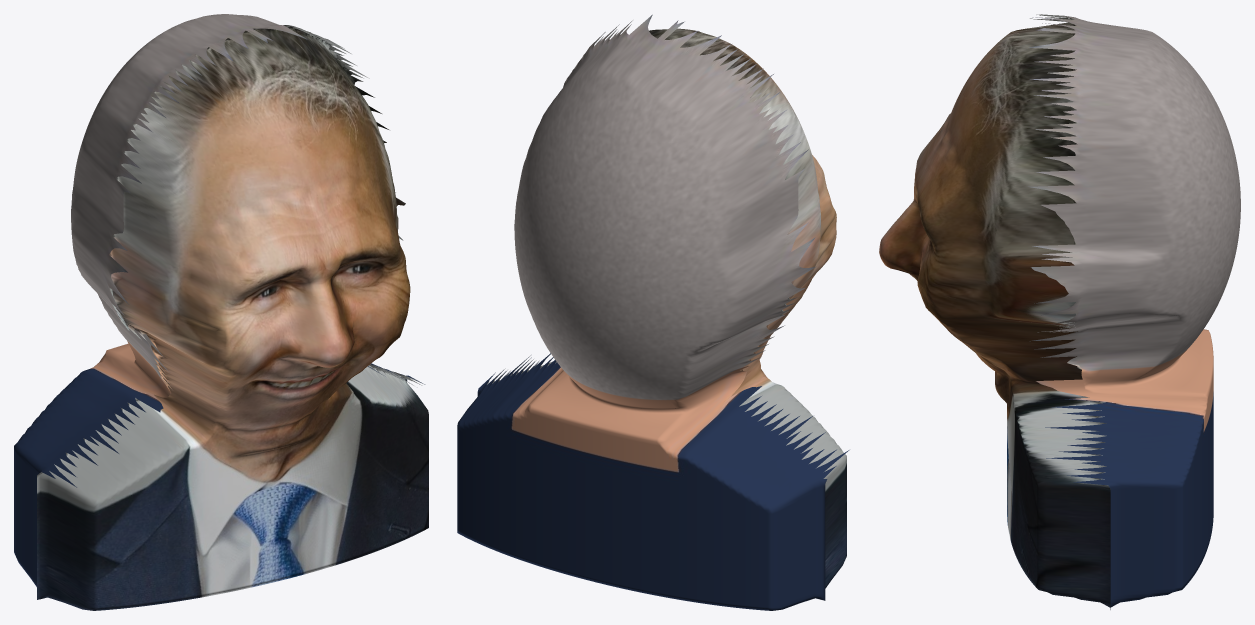
3 views of the same model, side by side, from view 1: azimuth 30°, elevation 25°; view 2: azimuth 150°, elevation 25°; view 3: azimuth 270°, elevation 25° (orthographic). The views are drawn at different scales.
Parts seen in each view (by area): view 1: MalcolmTurnbullHead; view 2: MalcolmTurnbullHead; view 3: MalcolmTurnbullHead.
Part boxes in pixels (bbox=[...]): MalcolmTurnbullHead: bbox=[14, 14, 428, 610]; MalcolmTurnbullHead: bbox=[457, 14, 849, 610]; MalcolmTurnbullHead: bbox=[879, 14, 1240, 609].
Bounding box in the file's own units: 0.2279 × 0.3178 × 0.2076.
Materials: 1 (1 with a texture image).
